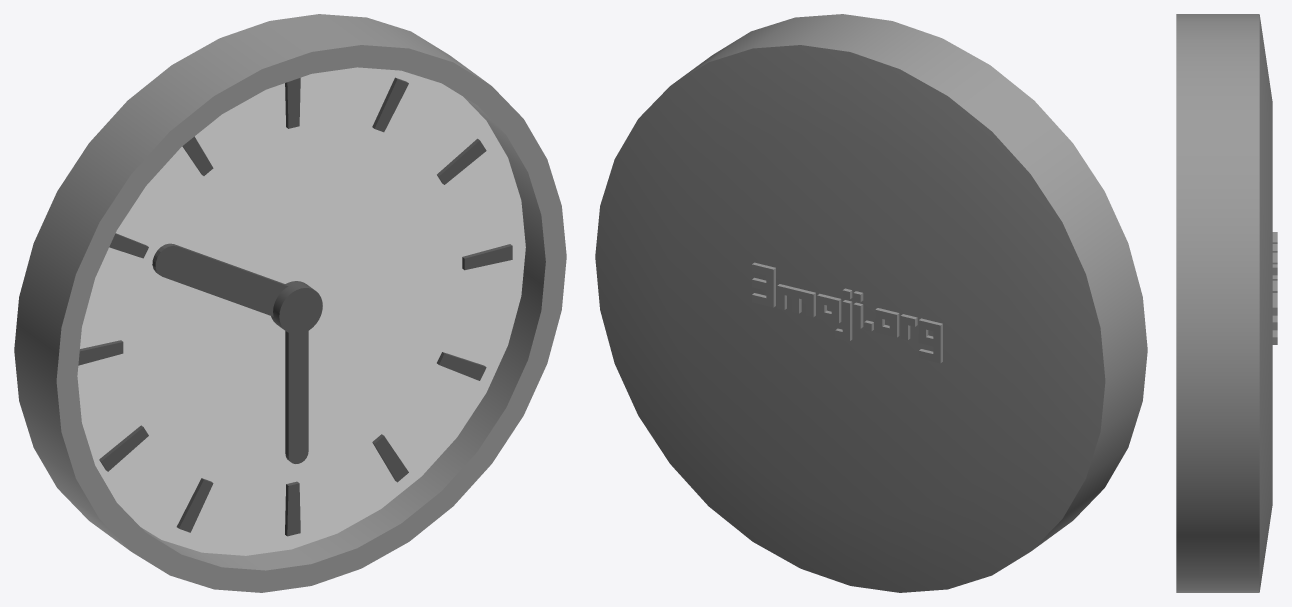
The model's file is ten_thirty.fbx.
The picture shows the model from 3 angles, left to right: view 1: azimuth 30°, elevation 25°; view 2: azimuth 150°, elevation 25°; view 3: azimuth 270°, elevation 25°; orthographic projection.
Visible parts, largest first — view 1: Circle.2492; view 2: Circle.2492; view 3: Circle.2492.
Part boxes in pixels (x1,y1,x2,y2): Circle.2492: (14, 14, 566, 592); Circle.2492: (595, 14, 1147, 592); Circle.2492: (1176, 14, 1277, 592).
Size of the model in its own units: 233 by 233 by 40.69.
1 material, 1 textured.
